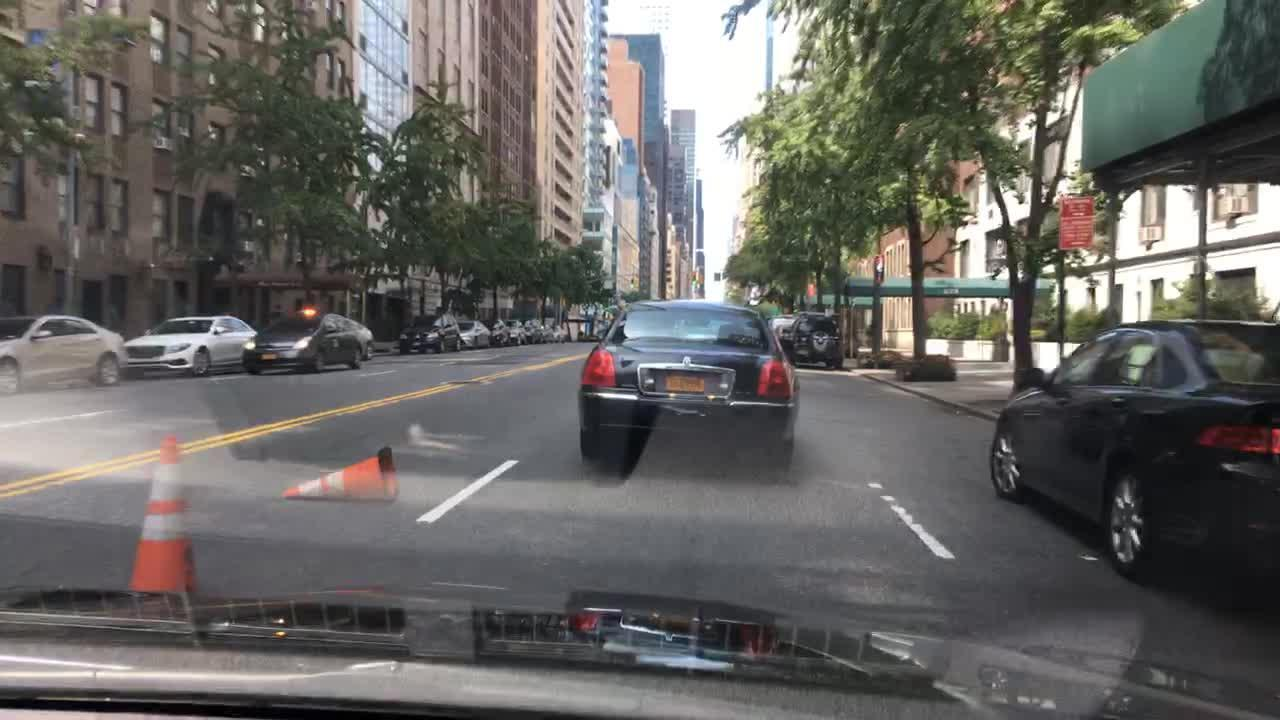lincoln: (682, 355, 692, 368)
